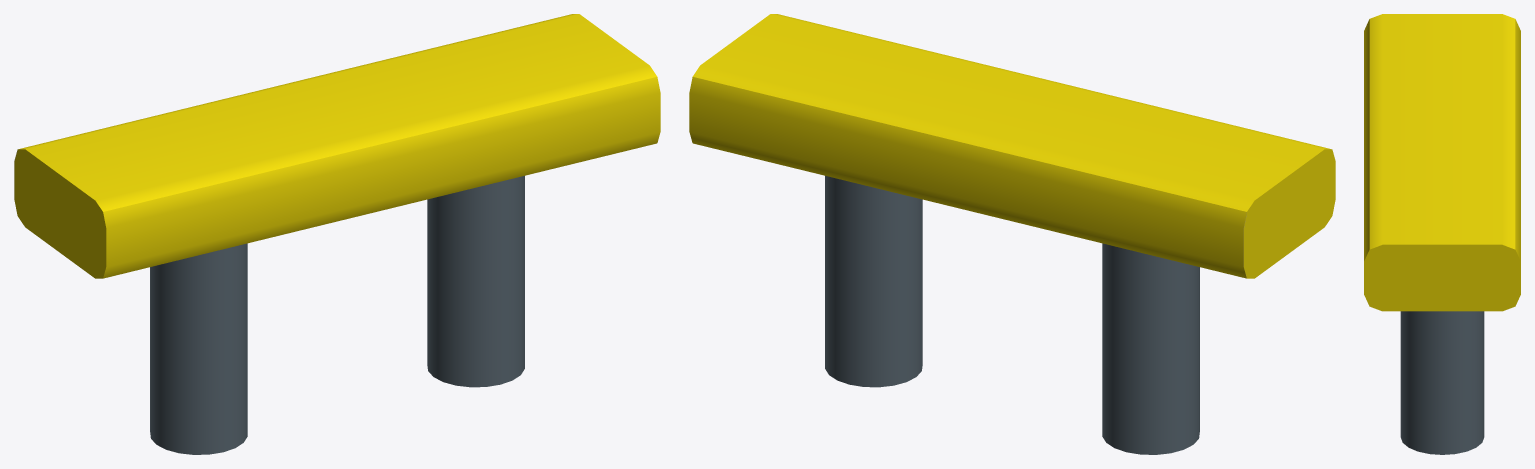
The model's file is Fence.fbx.
3 renders of one model, left to right at view 1: azimuth 30°, elevation 25°; view 2: azimuth 150°, elevation 25°; view 3: azimuth 270°, elevation 25°, orthographic. The views are drawn at different scales.
Parts seen in each view (by area): view 1: pCube2, pCylinder5, pCylinder4; view 2: pCube2, pCylinder5, pCylinder4; view 3: pCube2, pCylinder4.
Part boxes in pixels (x1=…): pCube2: x1=14, y1=14, x2=660, y2=278; pCylinder5: x1=150, y1=243, x2=247, y2=454; pCylinder4: x1=427, y1=176, x2=524, y2=387; pCube2: x1=689, y1=14, x2=1335, y2=278; pCylinder5: x1=1102, y1=243, x2=1199, y2=454; pCylinder4: x1=825, y1=176, x2=922, y2=387; pCube2: x1=1364, y1=14, x2=1520, y2=311; pCylinder4: x1=1400, y1=311, x2=1484, y2=454.
Size of the model in its own units: 1 by 0.5055 by 0.2869.
